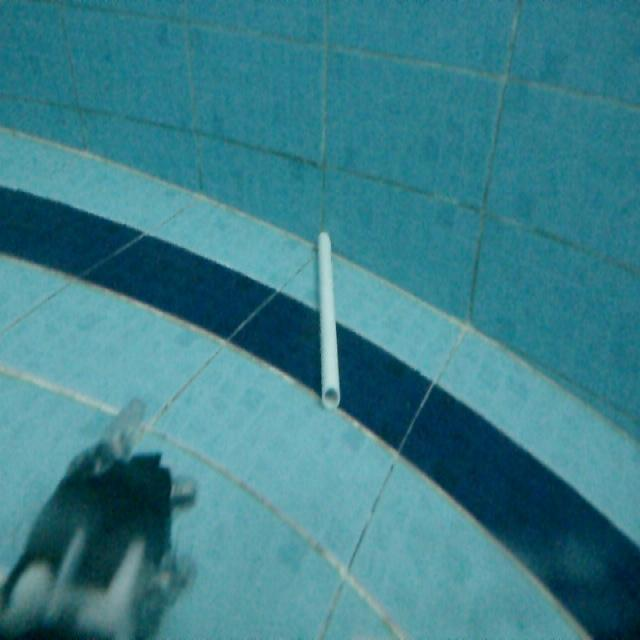Cube: (312, 225, 344, 411)
